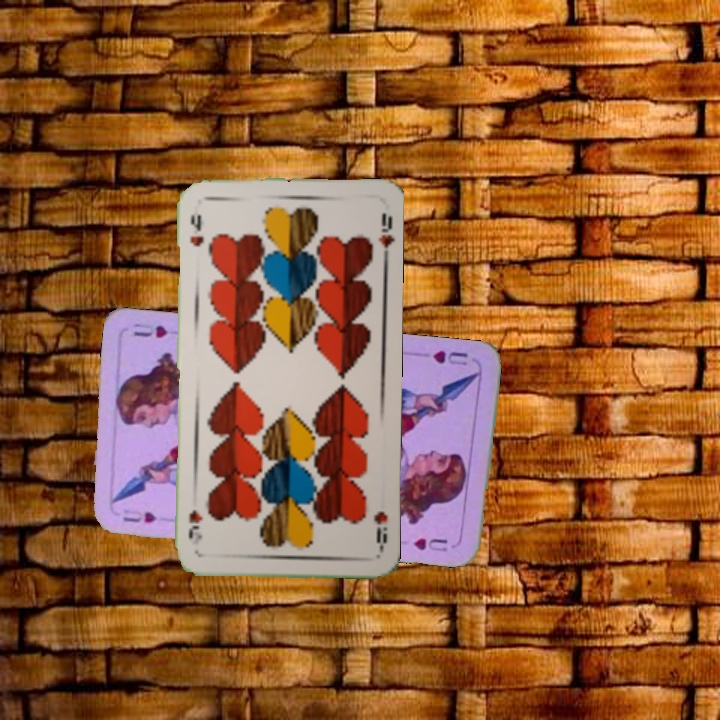H9: (370, 507, 390, 553), (186, 209, 206, 249)
HU: (429, 346, 470, 368), (118, 507, 160, 526)
